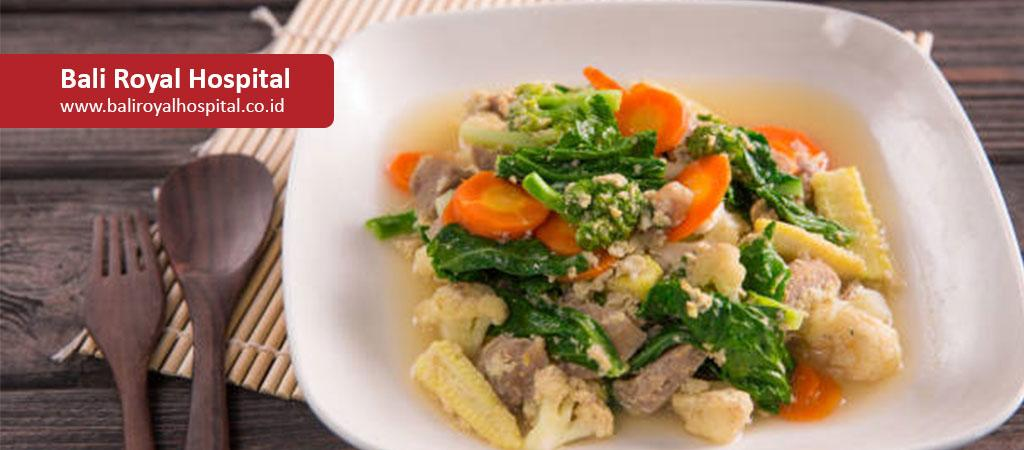buah_sayur_lainnya: (526, 94, 613, 191), (708, 301, 779, 359), (429, 356, 475, 400)
buah_sayur_vitA: (469, 179, 512, 230), (633, 95, 675, 125)
